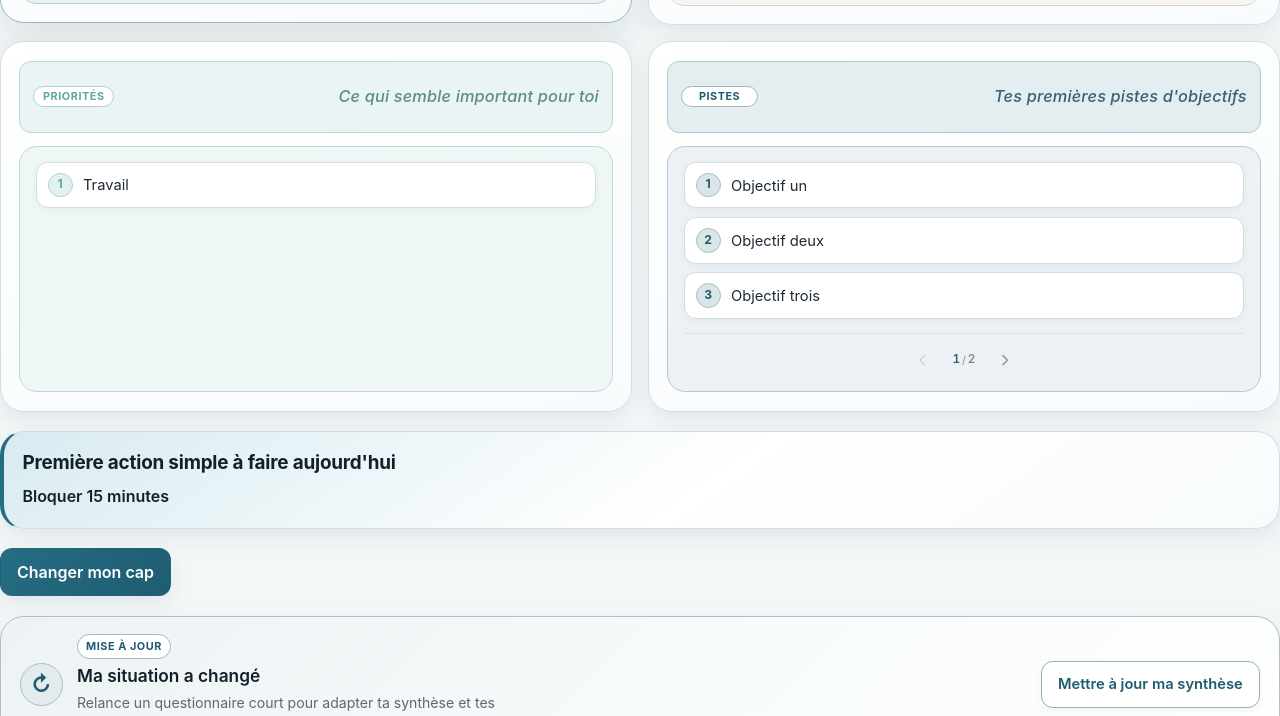
Test case: Synthese page › paginates suggested goals to three items per page
The image size is (1280, 716).
(page scrolled)
Expected: the text "Objectif un" is shown, left=731, top=176, right=807, bottom=194
Expected: the text "Objectif trois" is shown, left=731, top=287, right=820, bottom=305
Step 1. Click the button named "Page suivante" → (1006, 360), box left=989, top=343, right=1022, bottom=377
(page scrolled)
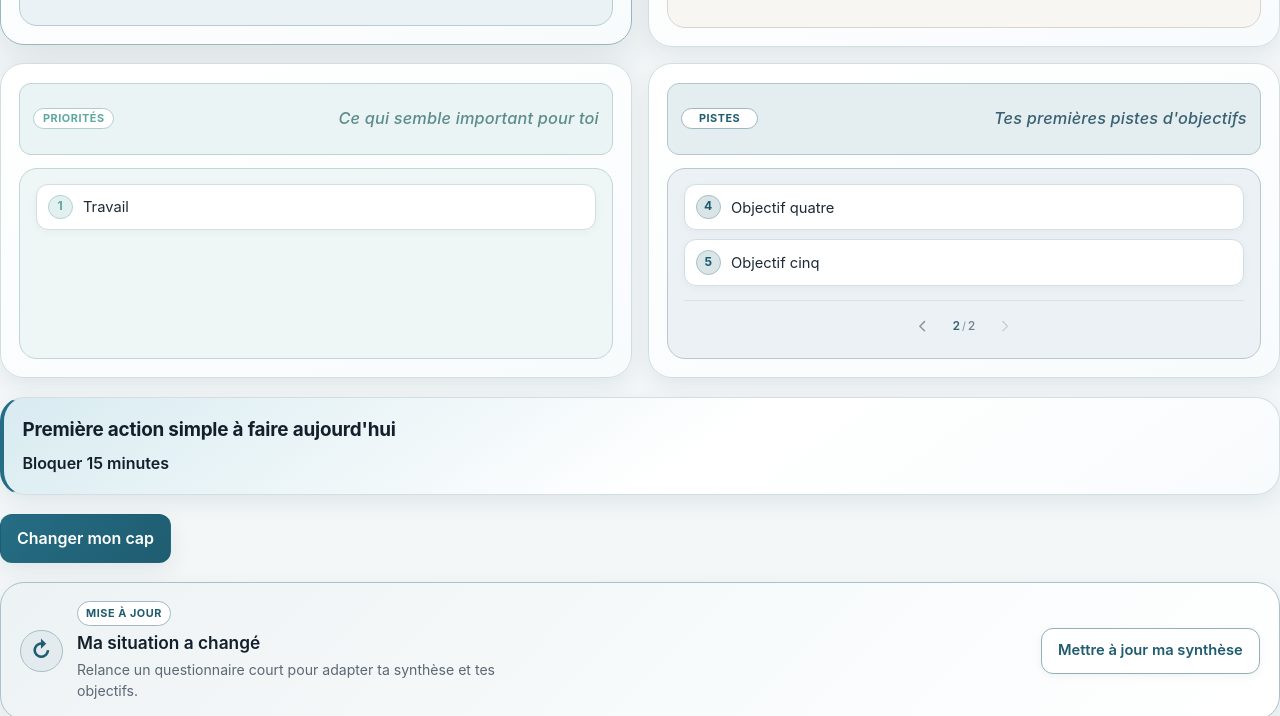
Result: the text "Objectif un" is gone
Result: the text "Objectif quatre" is shown at left=731, top=198, right=834, bottom=216
Result: the text "Objectif cinq" is shown at left=731, top=254, right=820, bottom=272
